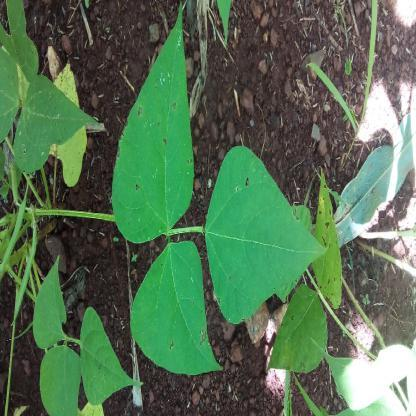Beans_Angular_LeafSpot: (205, 147, 319, 318), (115, 6, 190, 244), (136, 245, 207, 378), (311, 166, 347, 312)
